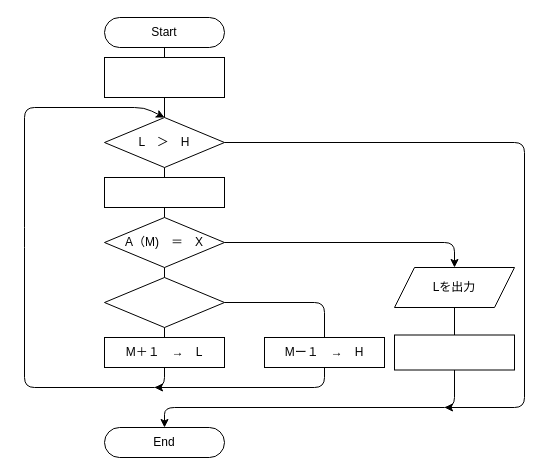
This 550x475 diagram has some shape labels left out. The shapes that lost their labels are listed below. From the top down, each one's centre as x and y in pixels, then its label:
[164,77]: １ → L ７ → H
[164,192]: (L＋H)/2 → M
[164,302]: A（M) ＜ X
[454,352]: H＋１→ L
